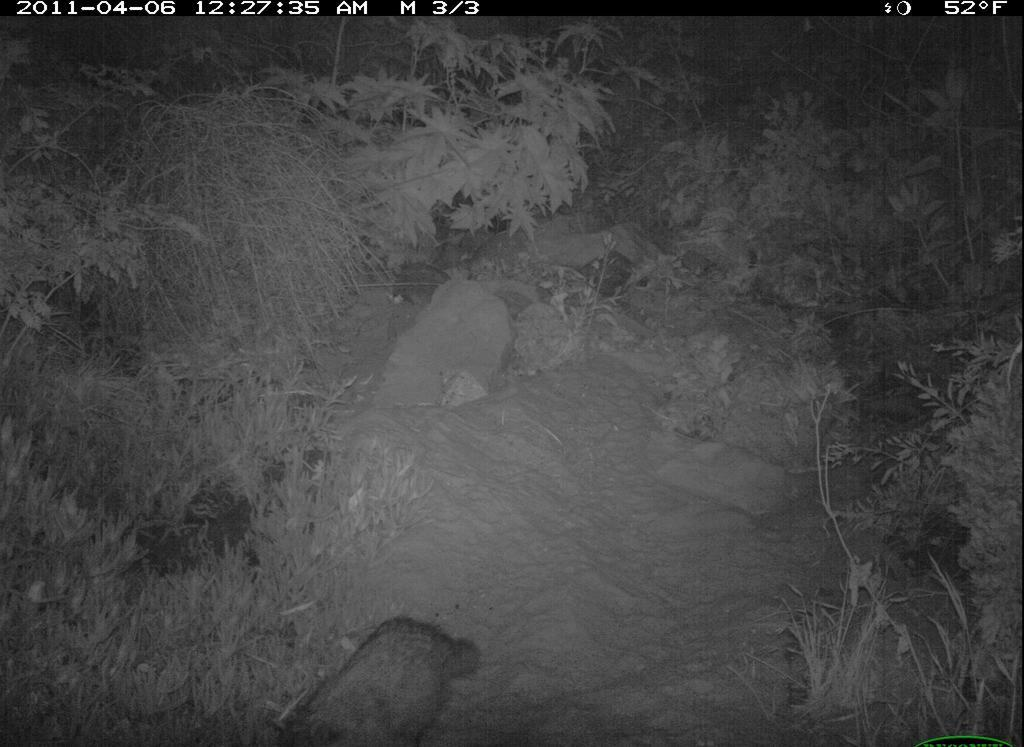raccoon: (259, 606, 498, 744)
